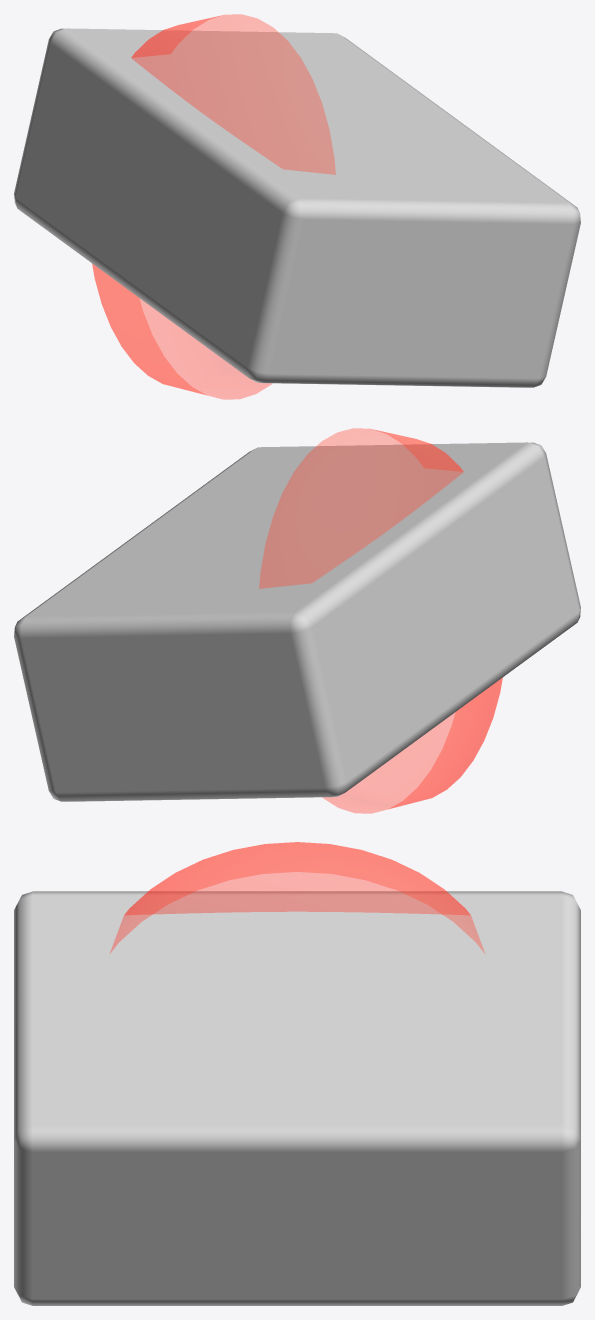
The model's file is bike_classic_4t__tail_light.glb.
The picture shows the model from 3 angles, top to bottom: view 1: azimuth 30°, elevation 25°; view 2: azimuth 150°, elevation 25°; view 3: azimuth 270°, elevation 25°; orthographic projection. The views are drawn at different scales.
Parts seen in each view (by area): view 1: electrical__tail_light, electrical__tail_light__lens; view 2: electrical__tail_light, electrical__tail_light__lens; view 3: electrical__tail_light, electrical__tail_light__lens.
Boxes of the visible parts, <box> form: electrical__tail_light: <box>14,28,580,387</box>; electrical__tail_light__lens: <box>92,14,335,399</box>; electrical__tail_light: <box>14,442,580,801</box>; electrical__tail_light__lens: <box>259,428,502,813</box>; electrical__tail_light: <box>14,891,580,1305</box>; electrical__tail_light__lens: <box>110,842,484,953</box>.
Bounding box in the file's own units: 6.94 × 6.84 × 9.
